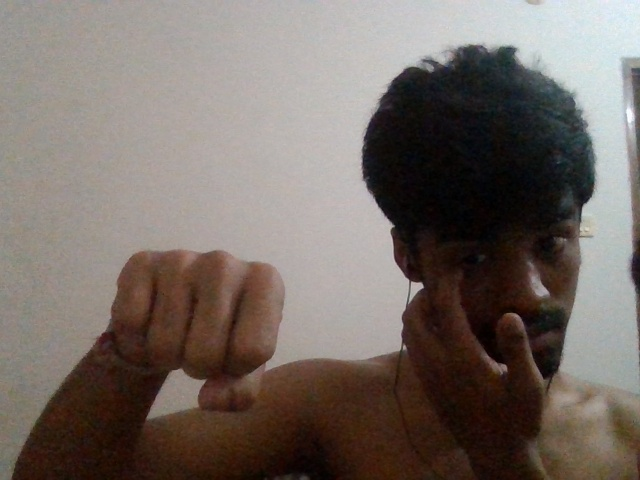Yes: (104, 237, 293, 411)
